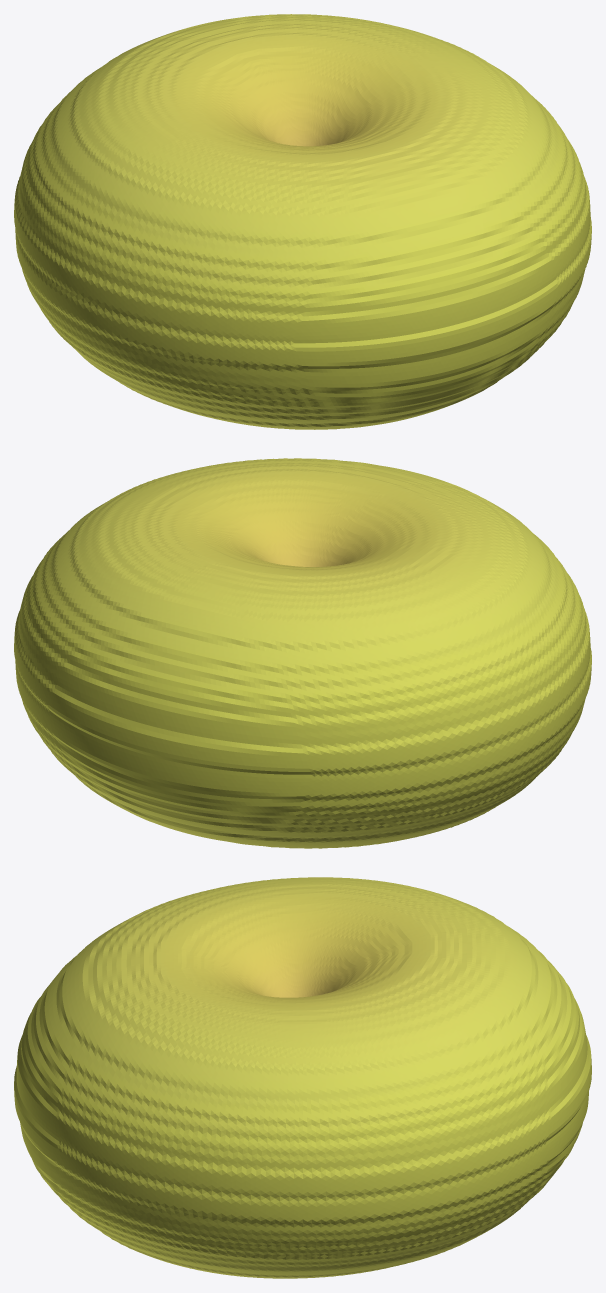
File: dipole.glb
3 renders of one model, top to bottom at view 1: azimuth 30°, elevation 25°; view 2: azimuth 150°, elevation 25°; view 3: azimuth 270°, elevation 25°, orthographic.
Bounding box in the file's own units: 1.99 × 1.01 × 2.
